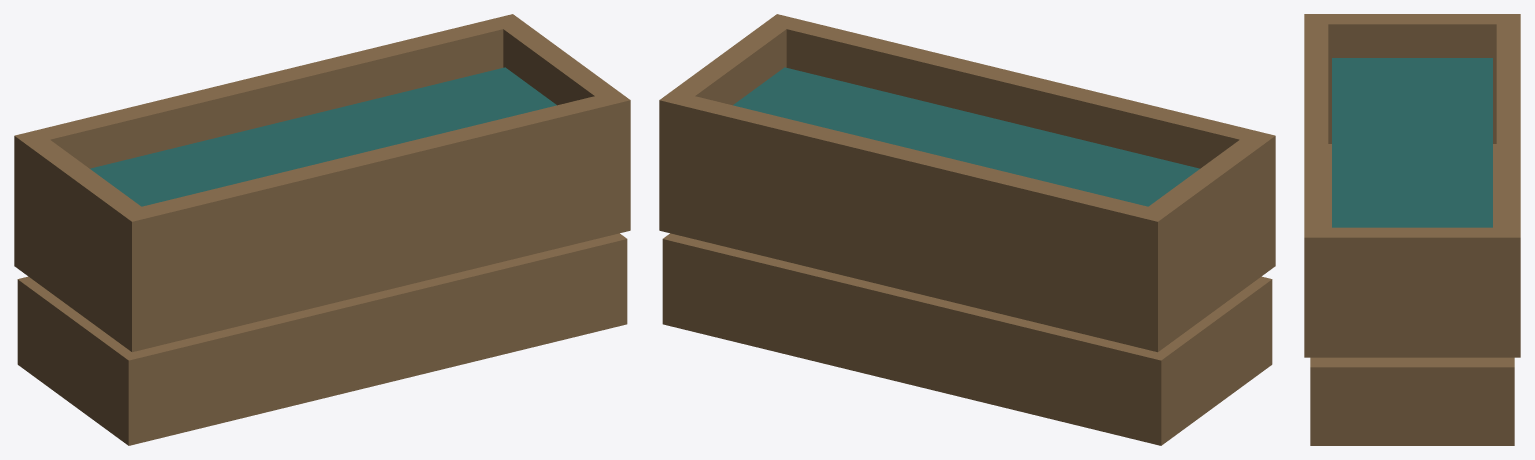
The picture shows the model from 3 angles, left to right: view 1: azimuth 30°, elevation 25°; view 2: azimuth 150°, elevation 25°; view 3: azimuth 270°, elevation 25°; orthographic projection. The views are drawn at different scales.
Visible parts, largest first — view 1: root_pal_khakiSeam, root_pal_backpackTeal; view 2: root_pal_khakiSeam, root_pal_backpackTeal; view 3: root_pal_khakiSeam, root_pal_backpackTeal.
Part boxes in pixels (bbox=[...]): root_pal_khakiSeam: bbox=[14, 14, 630, 445]; root_pal_backpackTeal: bbox=[90, 67, 556, 206]; root_pal_khakiSeam: bbox=[659, 14, 1275, 445]; root_pal_backpackTeal: bbox=[733, 67, 1199, 206]; root_pal_khakiSeam: bbox=[1304, 14, 1520, 445]; root_pal_backpackTeal: bbox=[1332, 58, 1492, 227].
Bounding box in the file's own units: 2.2 × 0.955 × 0.9.
